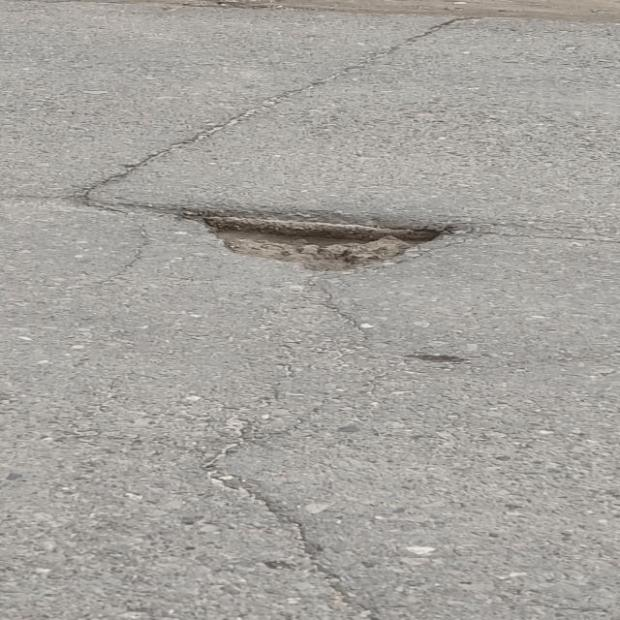lubang: (182, 211, 464, 268)
